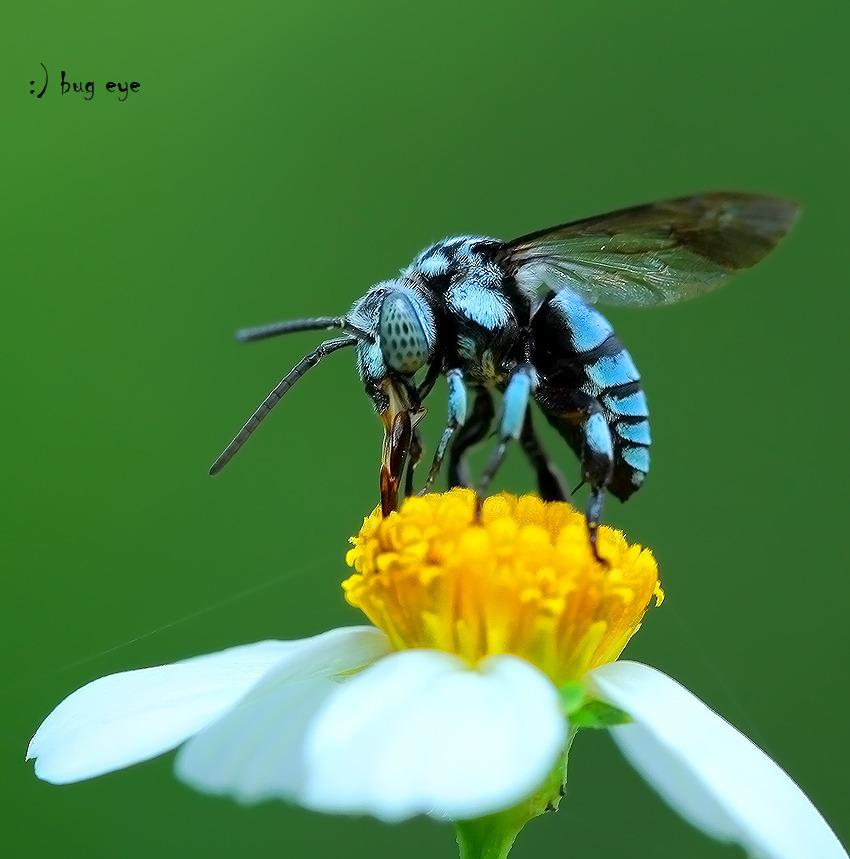Thyreus: (206, 174, 804, 574)
